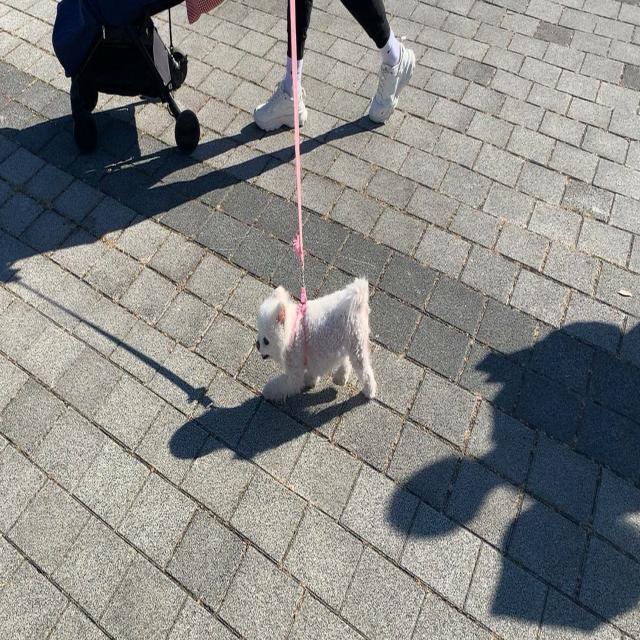Leashed_Dog: (256, 0, 376, 403)
